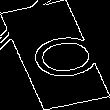O_E: (9, 27, 101, 83)
